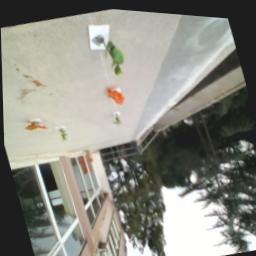herb: (101, 34, 130, 77), (58, 126, 70, 143), (111, 112, 124, 127)
wild: (23, 116, 50, 137), (105, 84, 127, 107)
